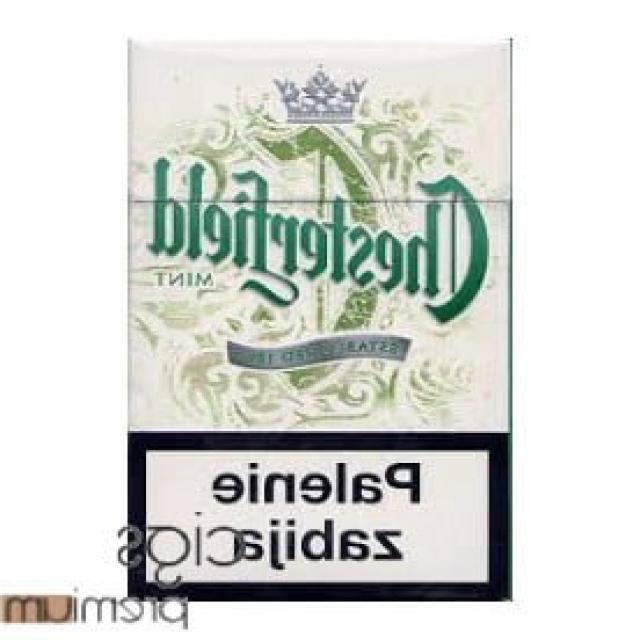chesterfield: (130, 34, 519, 606)
